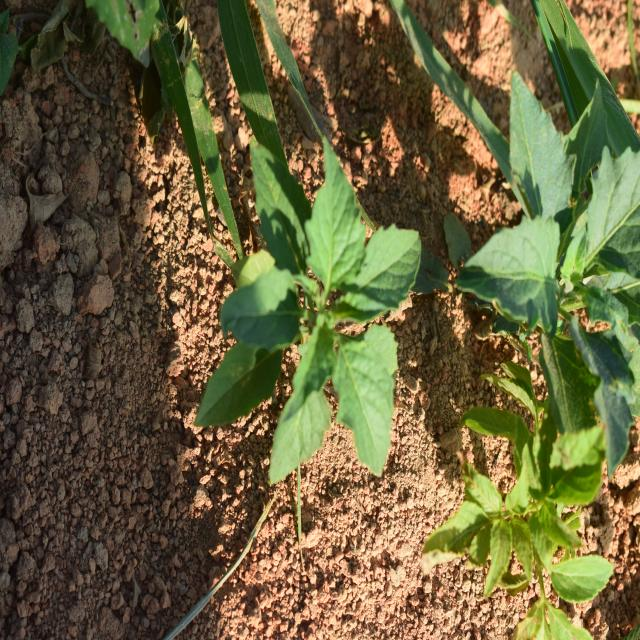Black_nightshade: (220, 154, 425, 475), (478, 96, 640, 443)
